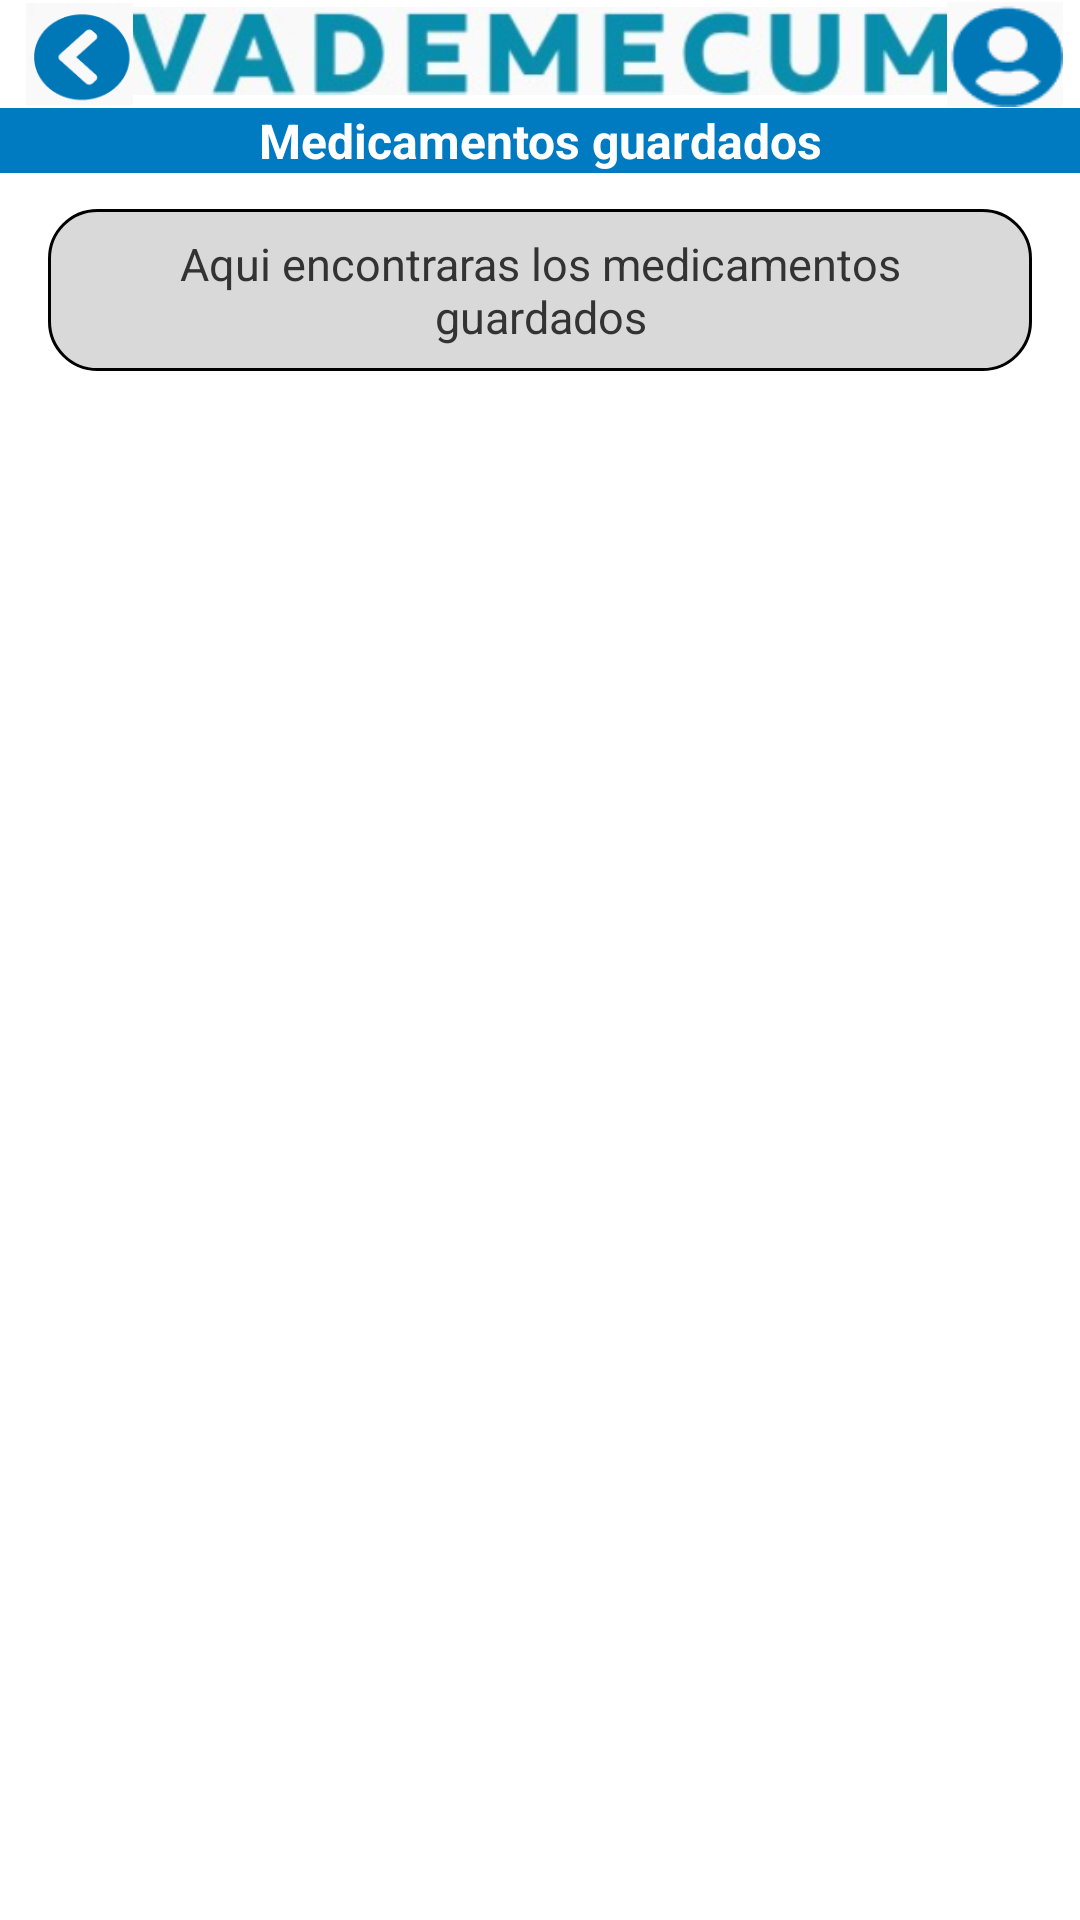

Where to tap for icons on this 1080*1920 app screen, as (x=x, y=y):
imgatras: (x=82, y=57)
imgusuario: (x=1005, y=54)
